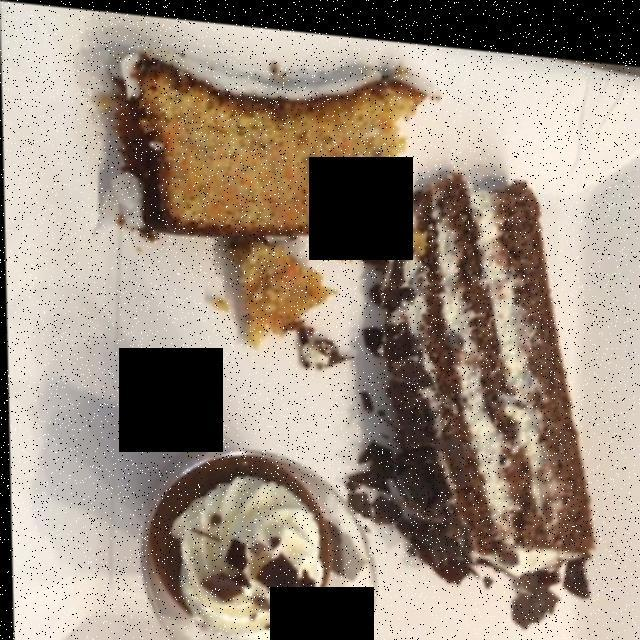cake: (129, 60, 409, 242)
chocolate-mousse: (166, 459, 328, 608)
cream: (184, 479, 321, 640)
sugar-glazing: (111, 41, 388, 95)
tart: (367, 169, 593, 579)
